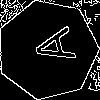A: (23, 25, 76, 69)
